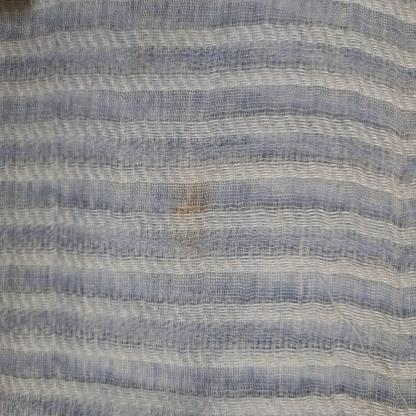spot: (172, 135, 221, 287)
